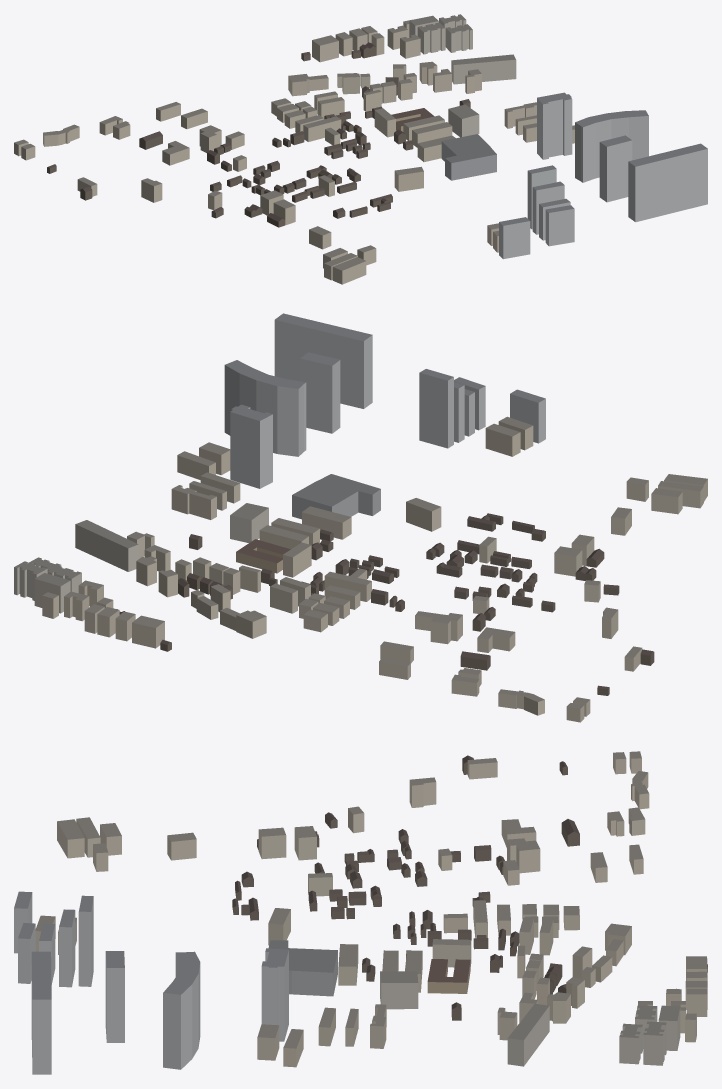
The model's file is tile_7_6.glb.
3 views of the same model, one above another, from view 1: azimuth 30°, elevation 25°; view 2: azimuth 150°, elevation 25°; view 3: azimuth 270°, elevation 25° (orthographic). The views are drawn at different scales.
Parts seen in each view (by area): view 1: HP-w505636138, HP-w505636135, HP-w505643559, HP-w495772385, HP-w505636136, HP-w505636152, HP-w505664414, HP-w505664413, HP-w505664433, HP-w505664411, HP-w505664410, HP-w858824335 (+20 smaller); view 2: HP-w505636138, HP-w505636135, HP-w505643559, HP-w505636136, HP-w495772385, HP-w505664410, HP-w505636152, HP-w505664414, HP-w505664433, HP-w505664431, HP-w573559188, HP-w505664434 (+21 smaller); view 3: HP-w505636135, HP-w505636138, HP-w495772385, HP-w505643559, HP-w505636136, HP-w505636152, HP-w505664433, HP-w505664410, HP-w505664431, HP-w505664411, HP-w858824332, HP-w505636150 (+28 smaller).
Part boxes in pixels (<box>): HP-w505636138: <box>628,143,707,222</box>; HP-w505636135: <box>575,110,648,182</box>; HP-w505643559: <box>537,92,572,159</box>; HP-w495772385: <box>441,134,496,180</box>; HP-w505636136: <box>599,135,632,202</box>; HP-w505636152: <box>451,54,516,84</box>; HP-w505664414: <box>499,217,530,259</box>; HP-w505664413: <box>545,205,574,246</box>; HP-w505664433: <box>448,104,479,137</box>; HP-w505664411: <box>532,181,564,234</box>; HP-w505664410: <box>527,165,556,229</box>; HP-w858824335: <box>417,22,445,54</box>; HP-w505636138: <box>274,313,372,408</box>; HP-w505636135: <box>224,360,306,456</box>; HP-w505643559: <box>230,404,272,488</box>; HP-w505636136: <box>300,352,340,433</box>; HP-w495772385: <box>292,474,380,519</box>; HP-w505664410: <box>419,369,453,448</box>; HP-w505636152: <box>75,520,138,571</box>; HP-w505664414: <box>510,389,545,443</box>; HP-w505664433: <box>230,503,268,542</box>; HP-w505664431: <box>236,539,290,573</box>; HP-w573559188: <box>171,485,216,519</box>; HP-w505664434: <box>302,506,351,539</box>; HP-w505636135: <box>163,951,200,1069</box>; HP-w505636138: <box>31,951,51,1074</box>; HP-w495772385: <box>268,940,337,996</box>; HP-w505643559: <box>261,948,288,1041</box>; HP-w505636136: <box>105,951,124,1042</box>; HP-w505636152: <box>507,1003,549,1066</box>; HP-w505664433: <box>380,971,418,1009</box>; HP-w505664410: <box>78,895,93,986</box>; HP-w505664431: <box>427,959,470,993</box>; HP-w505664411: <box>59,909,75,987</box>; HP-w858824332: <box>643,1021,666,1065</box>; HP-w505636150: <box>507,838,540,873</box>.
Bounding box in the file's own units: 529 × 60 × 504.
